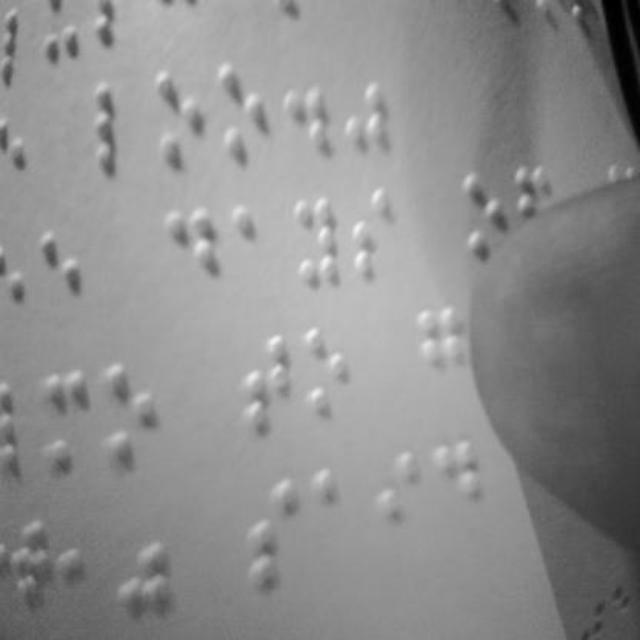braiile: (120, 348, 184, 468), (242, 470, 304, 586), (432, 438, 490, 558), (411, 300, 471, 416), (37, 222, 93, 346), (375, 450, 431, 574), (158, 200, 218, 312), (286, 182, 344, 294), (312, 454, 368, 570), (298, 316, 358, 422), (236, 332, 292, 438), (345, 178, 397, 292), (89, 80, 147, 180), (151, 72, 209, 172), (216, 59, 270, 163), (230, 196, 282, 304), (454, 164, 510, 264), (44, 363, 94, 473), (1, 362, 44, 474)
